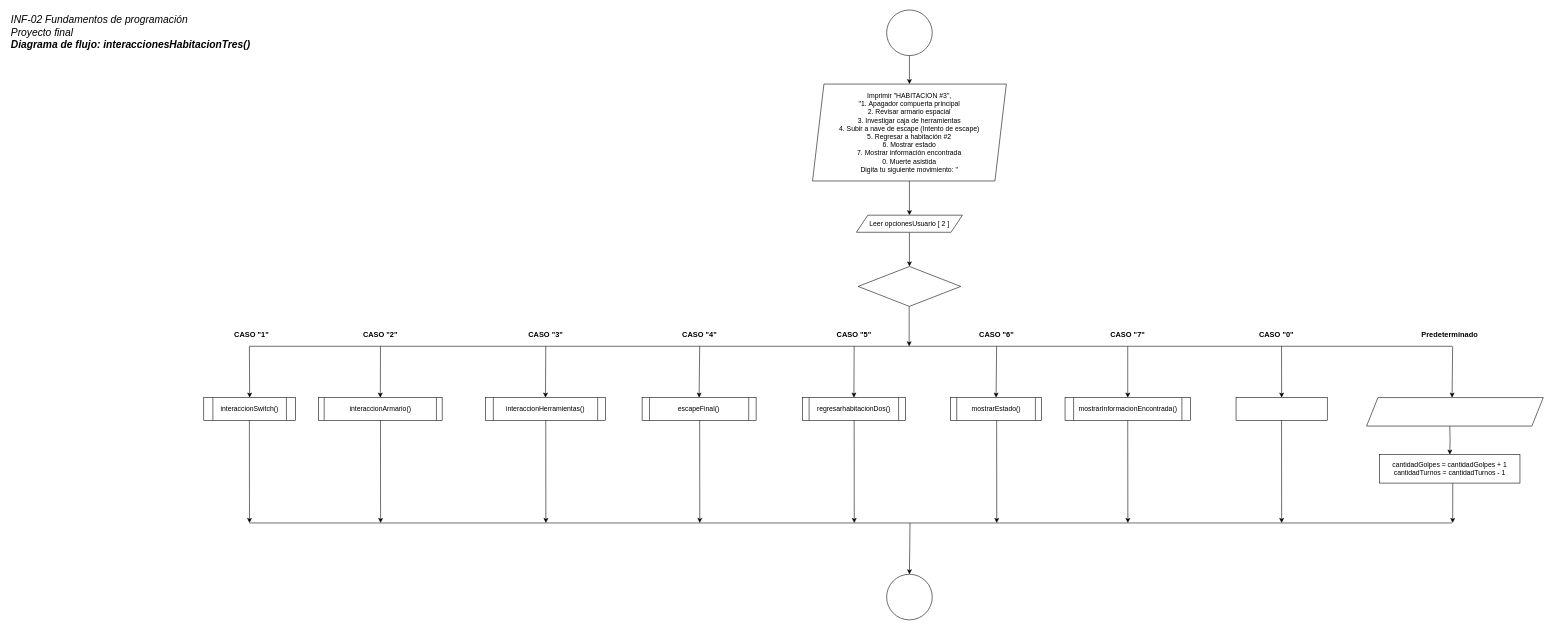
This 1553x630 diagram has some shape labels left out. Here are the shapes that lost their labels. From the top down, the centre of each, then its label:
[909,32]: Inicio
[909,286]: opcionesUsuario [ 2 ]
[1281,408]: juegoActivo = false
[1454,411]: Imprimir "Opción inválida, acumulaste un golpe y perdiste un turno... "
[909,597]: Fin
